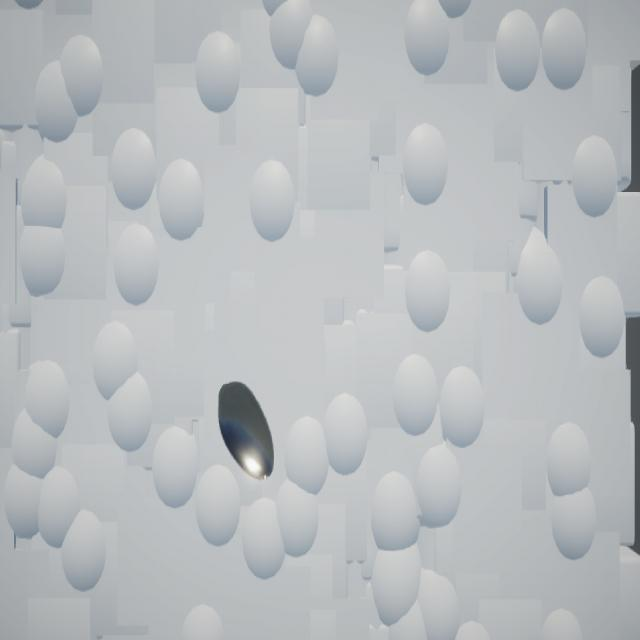top_spoon: (219, 383, 275, 481)
